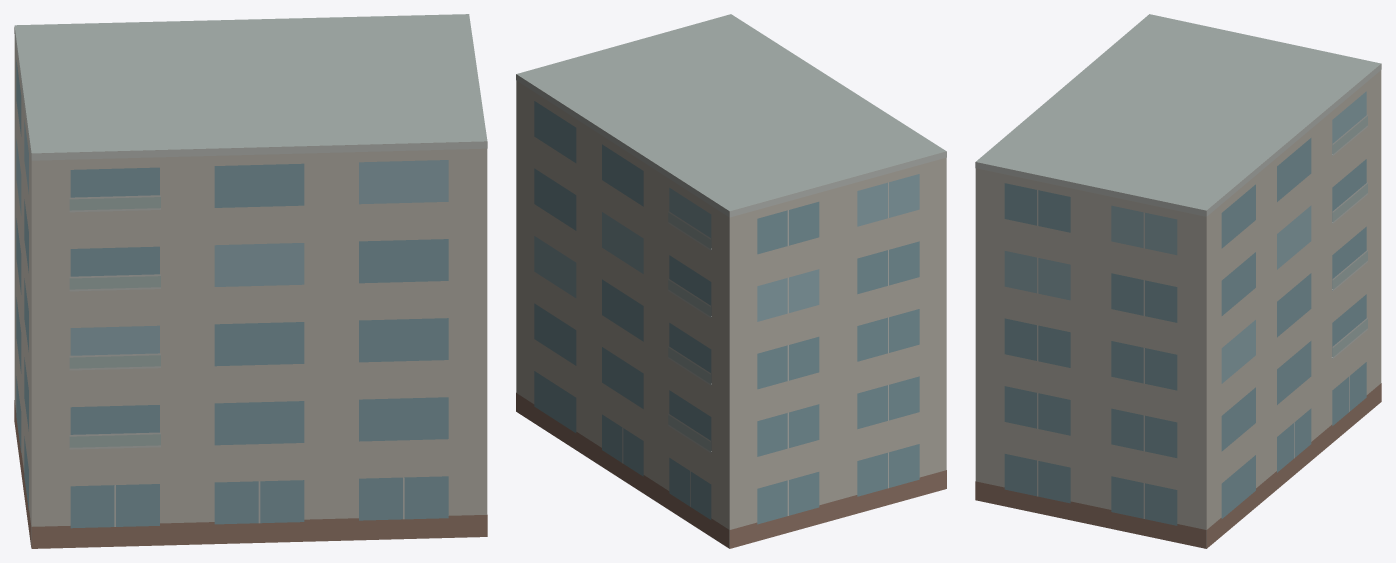
The model's file is survey-upis-32884364.glb.
3 views of the same model, side by side, from view 1: azimuth 30°, elevation 25°; view 2: azimuth 150°, elevation 25°; view 3: azimuth 270°, elevation 25° (orthographic). The views are drawn at different scales.
Parts seen in each view (by area): view 1: survey-upis-32884364.tmp; view 2: survey-upis-32884364.tmp; view 3: survey-upis-32884364.tmp.
Part boxes in pixels (bbox=[...]): survey-upis-32884364.tmp: bbox=[14, 14, 487, 548]; survey-upis-32884364.tmp: bbox=[516, 14, 946, 548]; survey-upis-32884364.tmp: bbox=[975, 14, 1381, 548].
Size of the model in its own units: 16.46 by 13.2 by 14.37.
